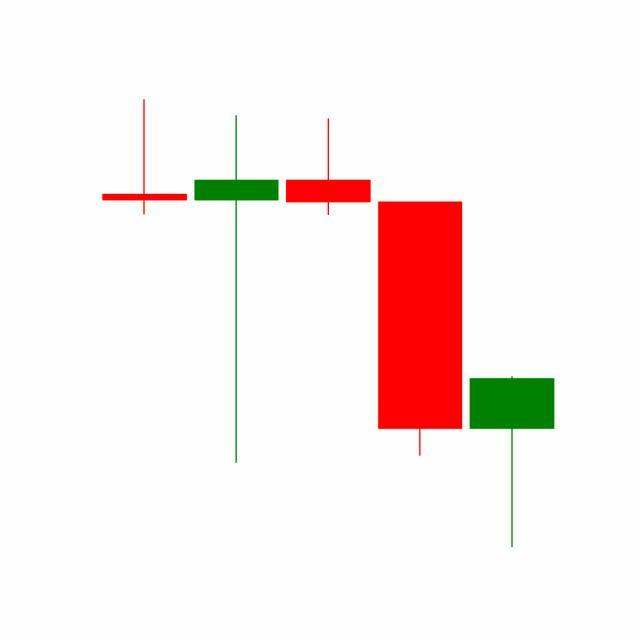Hammer: (466, 374, 559, 550)
